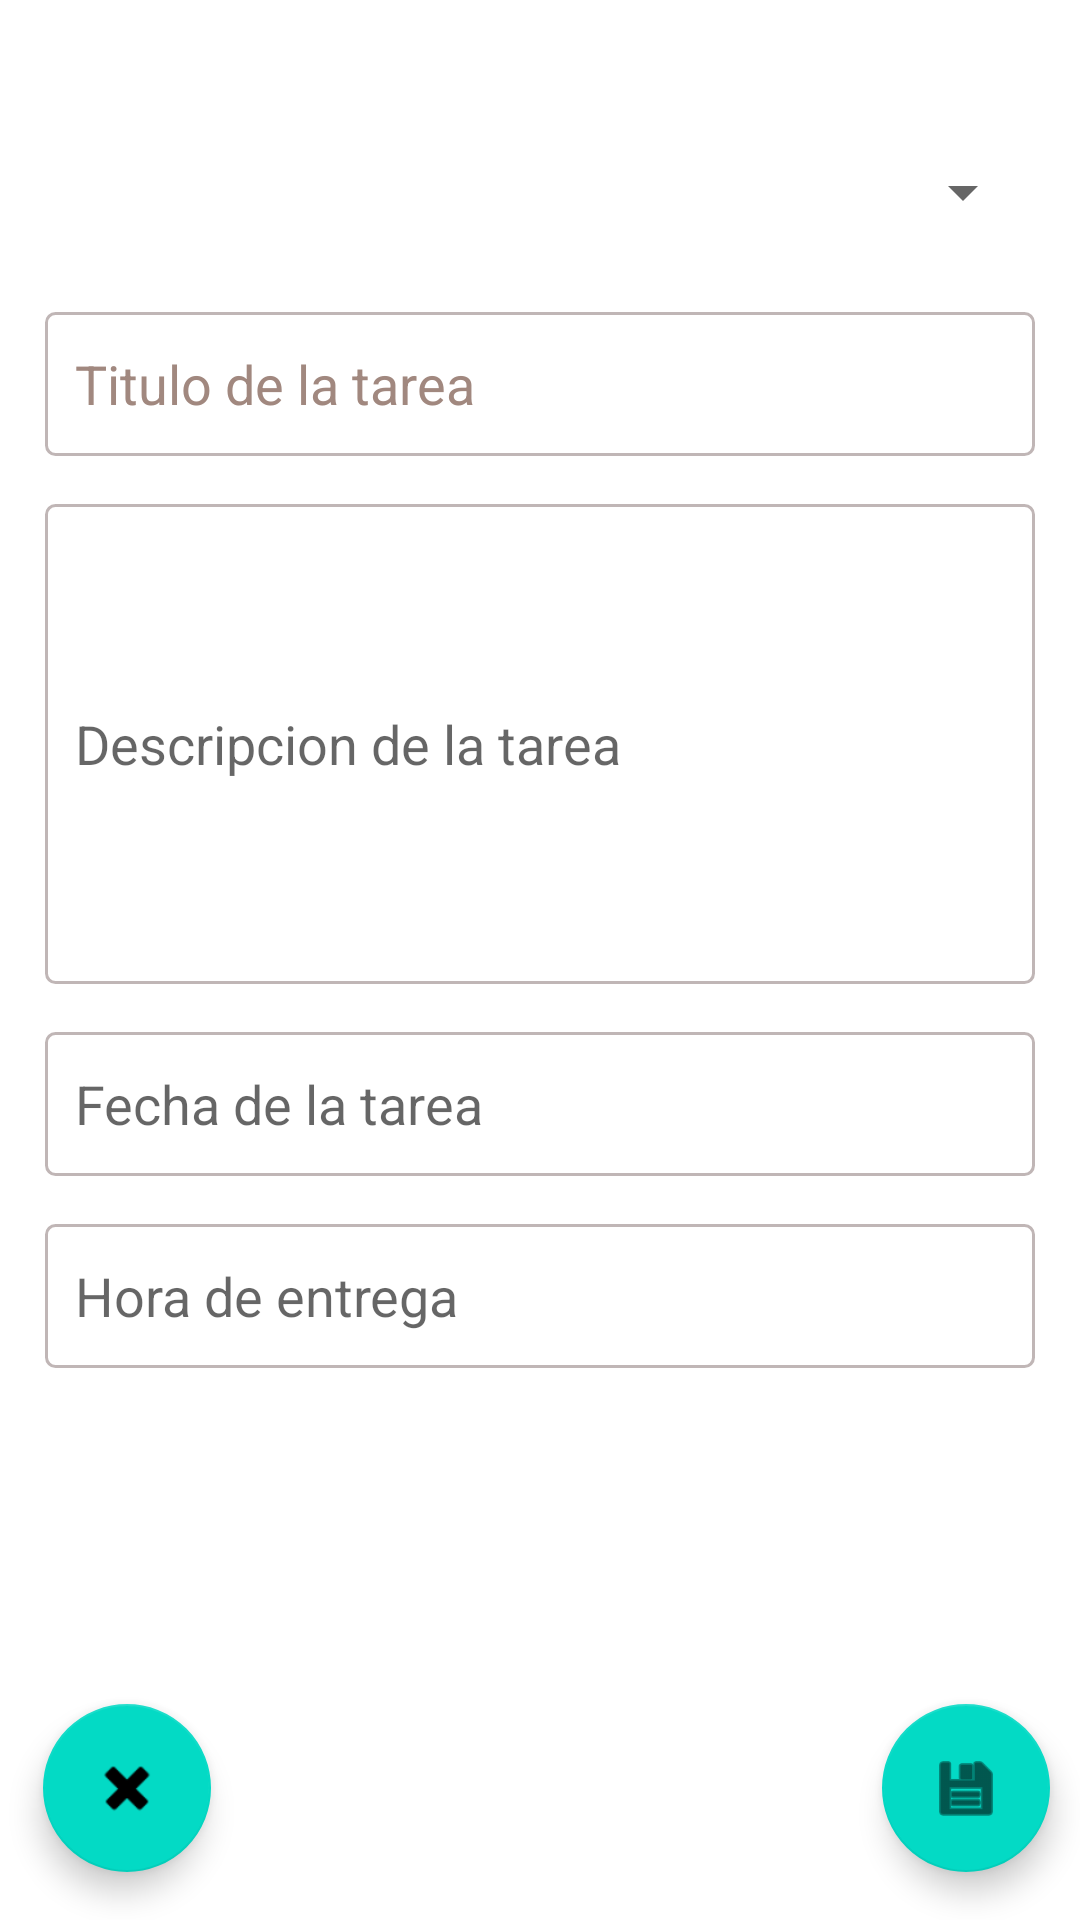

Point at icon controls on the screen. Image size 1080w x 1920h, points as [x,y].
delete: [127,1788]
save: [966,1788]
